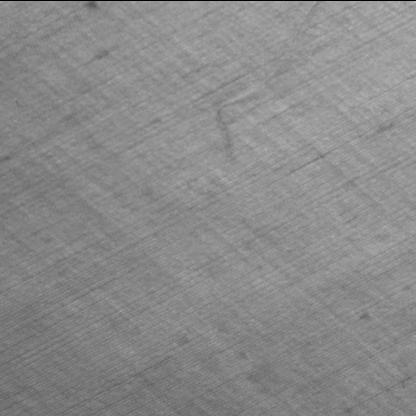objects: (212, 0, 325, 158)
